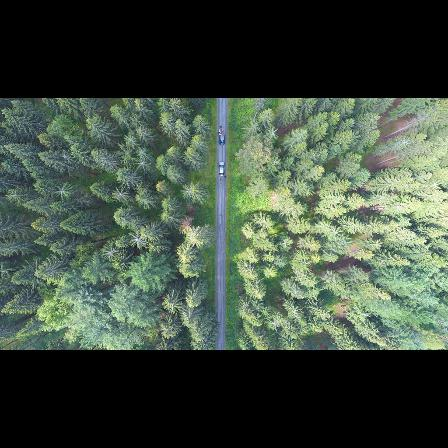Sick: (110, 186, 134, 204), (129, 230, 146, 252), (133, 157, 154, 174), (53, 182, 71, 200), (101, 245, 120, 262), (179, 182, 195, 202), (264, 123, 279, 141), (122, 133, 138, 148), (330, 224, 343, 240), (136, 147, 149, 158)
